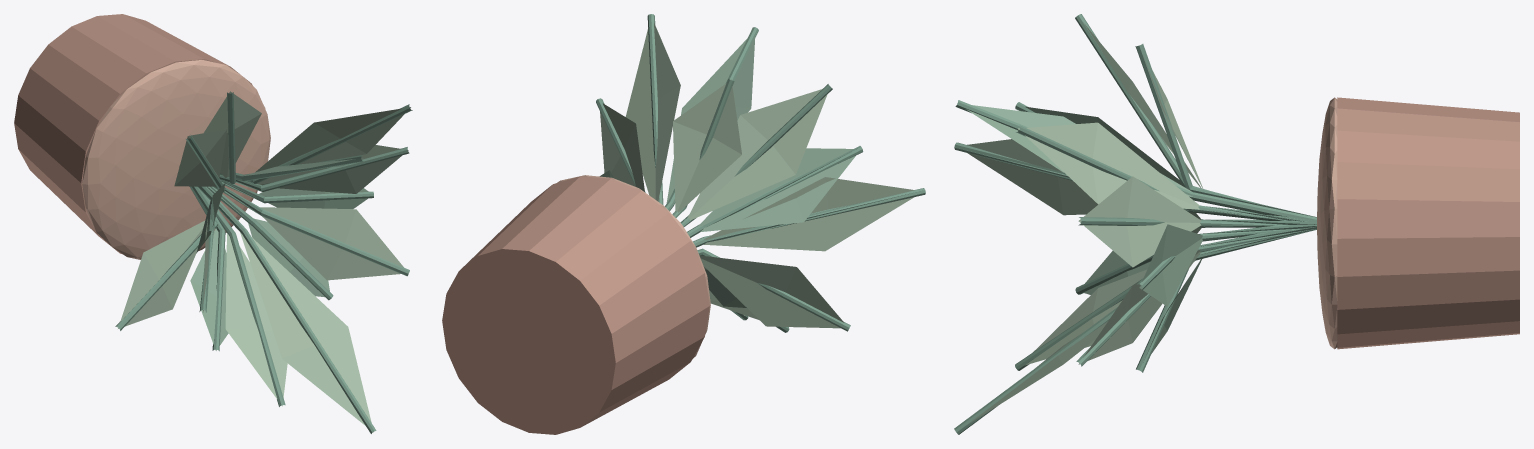
The model's file is prop-plant.glb.
3 renders of one model, left to right at view 1: azimuth 30°, elevation 25°; view 2: azimuth 150°, elevation 25°; view 3: azimuth 270°, elevation 25°, orthographic. The views are drawn at different scales.
Visible parts, largest first — view 1: 0001__planter_lip, 0000__ceramic_planter, 0026__sculpted_leaf, 0030__sculpted_leaf, 0024__sculpted_leaf, 0020__sculpted_leaf, 0008__sculpted_leaf, 0006__sculpted_leaf, 0014__sculpted_leaf, 0025__plant_stem, 0012__sculpted_leaf, 0022__sculpted_leaf (+16 smaller); view 2: 0000__ceramic_planter, 0014__sculpted_leaf, 0018__sculpted_leaf, 0020__sculpted_leaf, 0012__sculpted_leaf, 0008__sculpted_leaf, 0016__sculpted_leaf, 0006__sculpted_leaf, 0010__sculpted_leaf, 0017__plant_stem, 0015__plant_stem, 0007__plant_stem (+7 smaller); view 3: 0000__ceramic_planter, 0008__sculpted_leaf, 0006__sculpted_leaf, 0001__planter_lip, 0018__sculpted_leaf, 0004__sculpted_leaf, 0030__sculpted_leaf, 0024__sculpted_leaf, 0010__sculpted_leaf, 0011__plant_stem, 0007__plant_stem, 0009__plant_stem (+15 smaller).
Part boxes in pixels (bbox=[...]): 0001__planter_lip: bbox=[82, 60, 270, 259]; 0000__ceramic_planter: bbox=[14, 14, 265, 254]; 0026__sculpted_leaf: bbox=[240, 232, 373, 432]; 0030__sculpted_leaf: bbox=[260, 207, 403, 280]; 0024__sculpted_leaf: bbox=[225, 233, 287, 406]; 0020__sculpted_leaf: bbox=[118, 220, 205, 328]; 0008__sculpted_leaf: bbox=[255, 107, 410, 172]; 0006__sculpted_leaf: bbox=[257, 145, 408, 193]; 0014__sculpted_leaf: bbox=[174, 129, 227, 186]; 0025__plant_stem: bbox=[218, 202, 376, 433]; 0012__sculpted_leaf: bbox=[204, 91, 261, 177]; 0022__sculpted_leaf: bbox=[190, 228, 228, 350]; 0000__ceramic_planter: bbox=[442, 176, 709, 434]; 0014__sculpted_leaf: bbox=[687, 89, 827, 220]; 0018__sculpted_leaf: bbox=[703, 177, 914, 251]; 0020__sculpted_leaf: bbox=[699, 255, 844, 328]; 0012__sculpted_leaf: bbox=[673, 79, 741, 212]; 0008__sculpted_leaf: bbox=[625, 23, 680, 201]; 0016__sculpted_leaf: bbox=[698, 148, 855, 231]; 0006__sculpted_leaf: bbox=[600, 103, 644, 191]; 0010__sculpted_leaf: bbox=[666, 36, 755, 203]; 0017__plant_stem: bbox=[693, 188, 925, 247]; 0015__plant_stem: bbox=[687, 146, 863, 237]; 0007__plant_stem: bbox=[647, 14, 663, 204]; 0000__ceramic_planter: bbox=[1337, 97, 1519, 349]; 0008__sculpted_leaf: bbox=[1017, 122, 1199, 209]; 0006__sculpted_leaf: bbox=[1078, 176, 1201, 267]; 0001__planter_lip: bbox=[1317, 97, 1337, 349]; 0018__sculpted_leaf: bbox=[967, 139, 1098, 215]; 0004__sculpted_leaf: bbox=[1139, 224, 1202, 306]; 0030__sculpted_leaf: bbox=[1078, 249, 1200, 364]; 0024__sculpted_leaf: bbox=[1025, 269, 1147, 365]; 0010__sculpted_leaf: bbox=[966, 105, 1192, 196]; 0011__plant_stem: bbox=[1135, 44, 1314, 216]; 0007__plant_stem: bbox=[1016, 125, 1316, 221]; 0009__plant_stem: bbox=[955, 100, 1316, 220].
Bounding box in the file's own units: 0.7121 × 0.7697 × 1.11.
